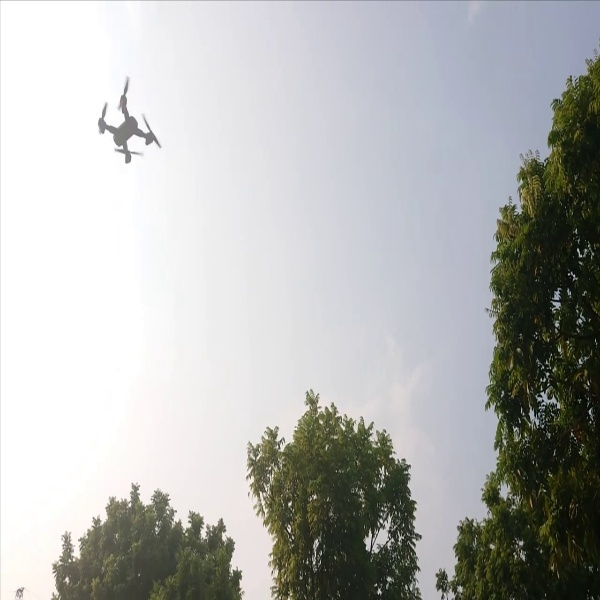drone: (89, 76, 171, 170)
